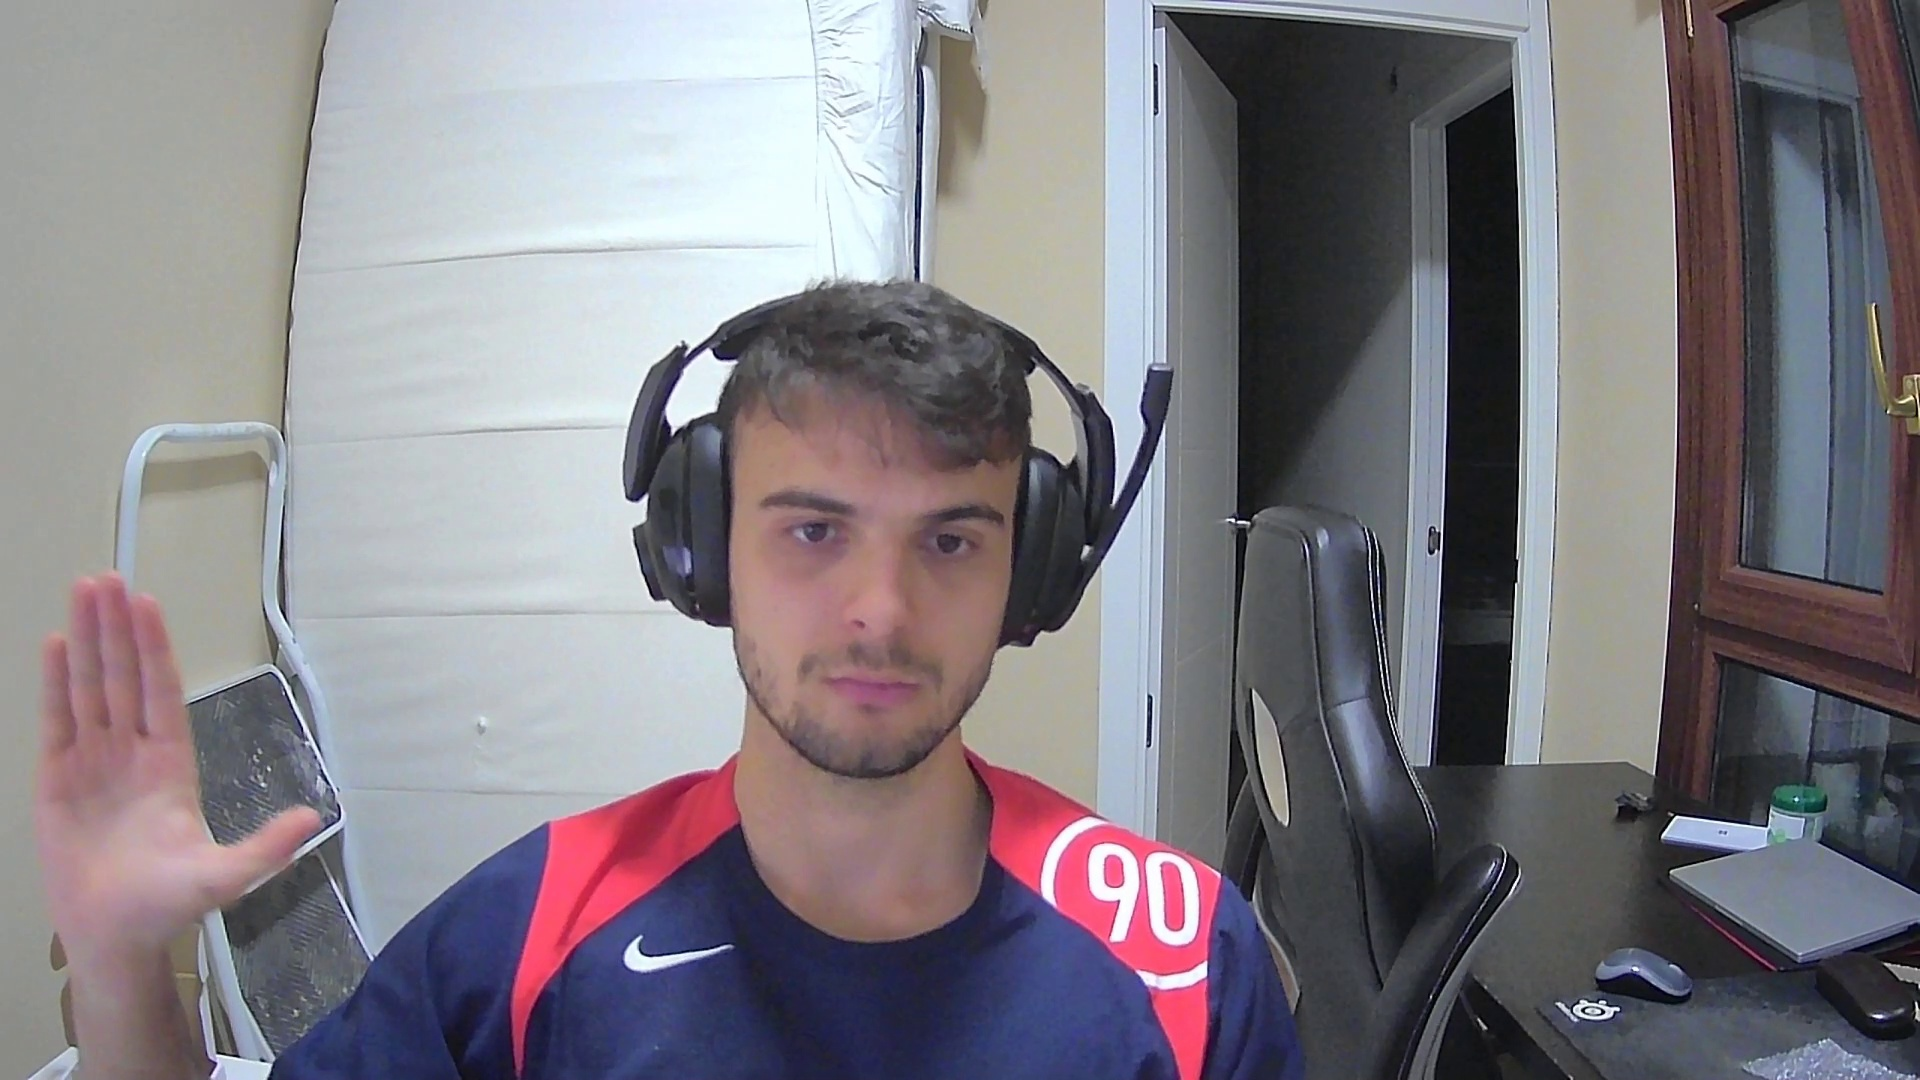Palm: (25, 564, 322, 963)
